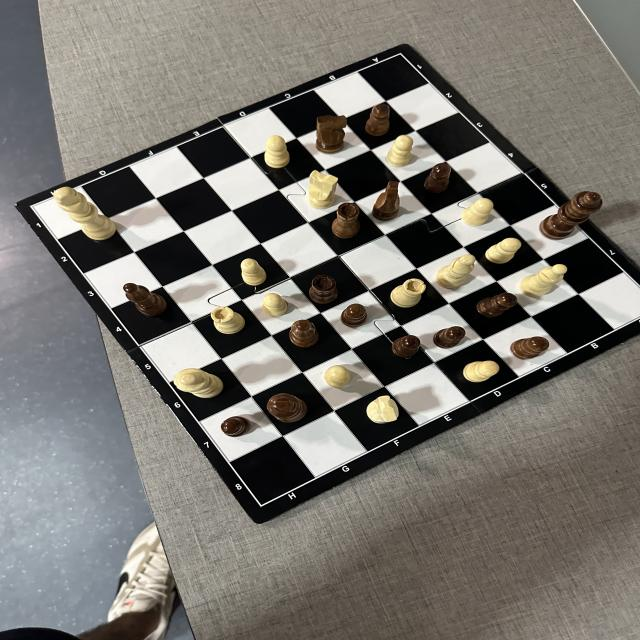Black-Bishop: (123, 283, 168, 316), (289, 320, 320, 348)
Black-Knight: (316, 115, 348, 155), (266, 393, 308, 423), (371, 181, 400, 221)
Black-Pawn: (476, 293, 517, 318), (510, 337, 549, 360), (424, 163, 451, 194), (365, 104, 391, 136), (432, 326, 466, 349), (340, 304, 368, 328), (392, 335, 421, 358), (220, 416, 250, 437)
Black-Queen: (538, 191, 603, 241)
Black-Rook: (331, 202, 361, 239), (308, 274, 338, 304)
White-Bishop: (519, 264, 568, 297), (436, 254, 476, 289), (308, 170, 339, 210)
White-King: (52, 187, 116, 241)
White-Knight: (366, 395, 399, 424)
White-Pawn: (485, 238, 522, 264), (385, 135, 414, 168), (461, 198, 494, 226), (264, 135, 291, 169), (463, 360, 500, 383), (240, 258, 268, 286), (262, 293, 288, 317), (324, 365, 351, 388)
White-Queen: (173, 368, 224, 399)
White-Rook: (390, 278, 426, 308), (210, 306, 247, 334)
